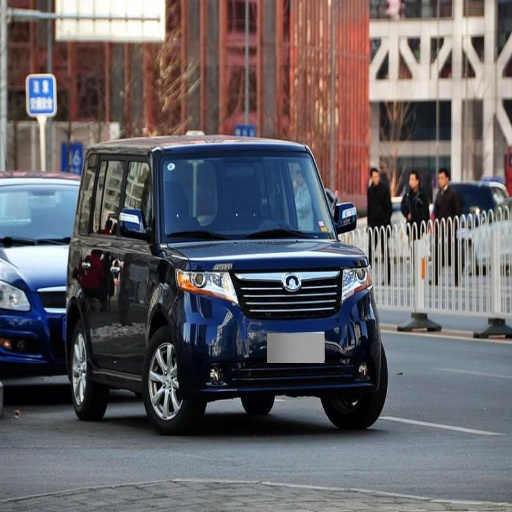front_bumper: (184, 260, 377, 395)
hood: (215, 231, 364, 268)
trunk: (116, 244, 216, 343)
